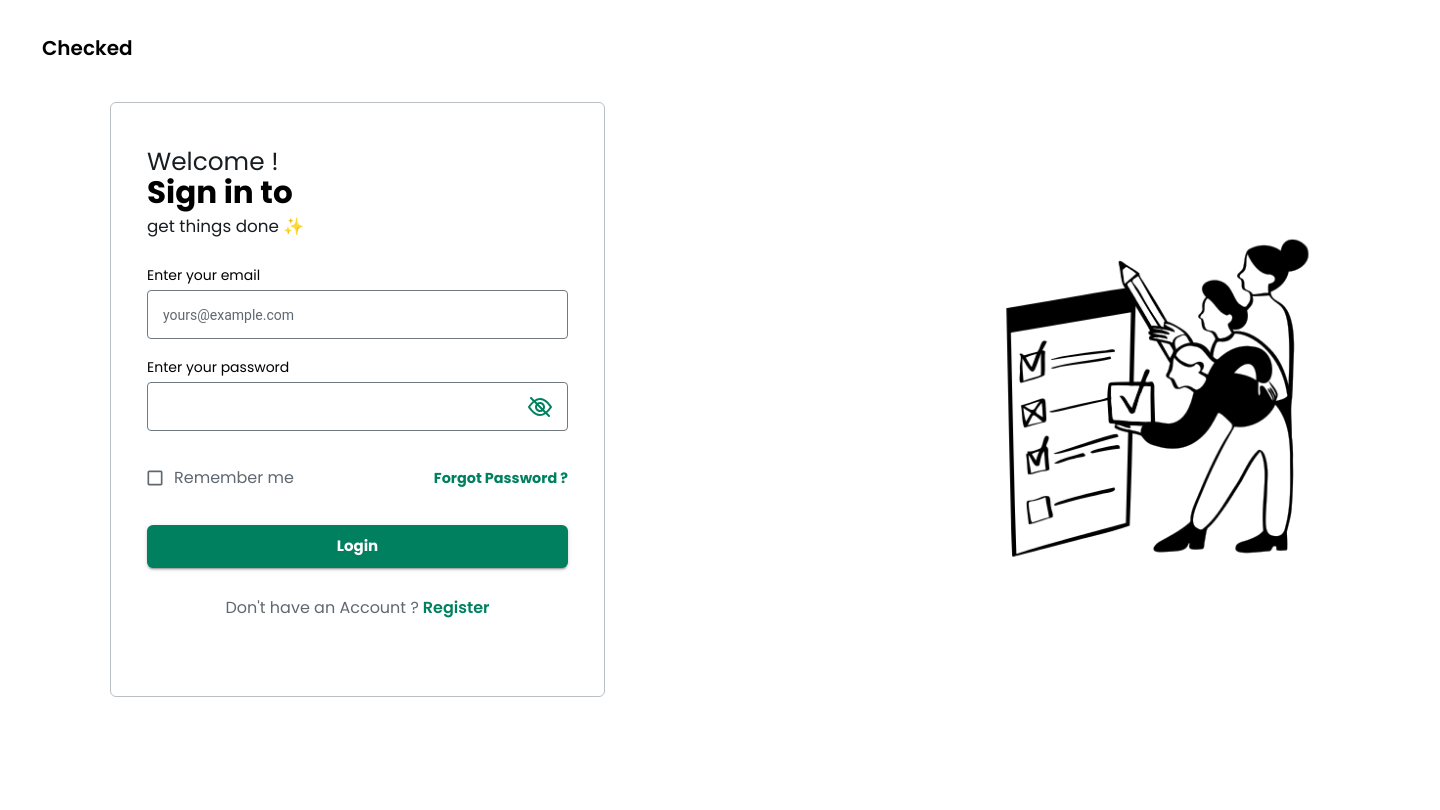
Test: AuthPage › moves to the authenticated shell after a successful login and stores a session
This screenshot has width=1440, height=810.
In the field labelled "Enter your email": (358, 315) top-left (147, 293), bottom-right (568, 337), type "task.master@example.com"
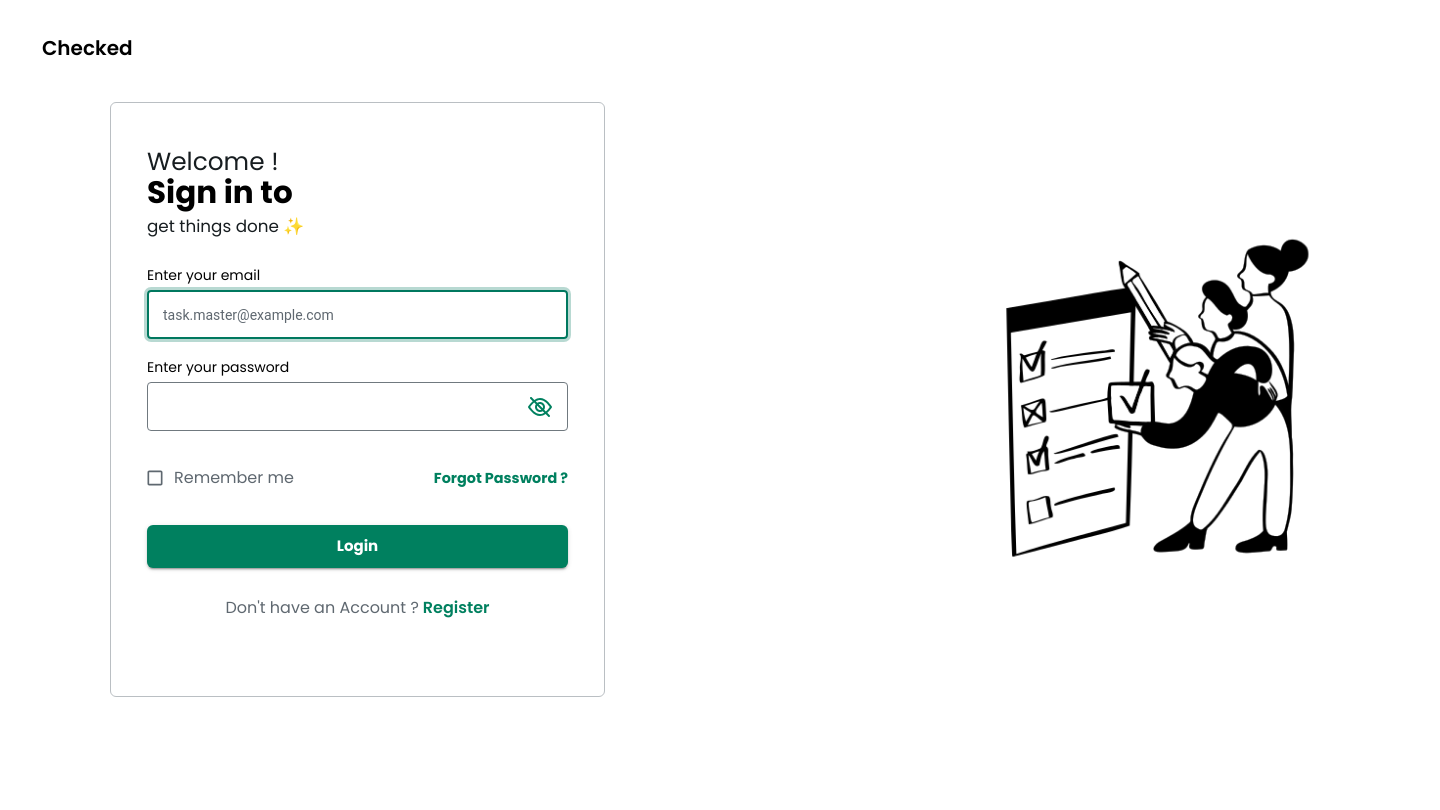
In the password field labelled "Enter your password": (331, 407) top-left (147, 385), bottom-right (515, 429), type "password123"
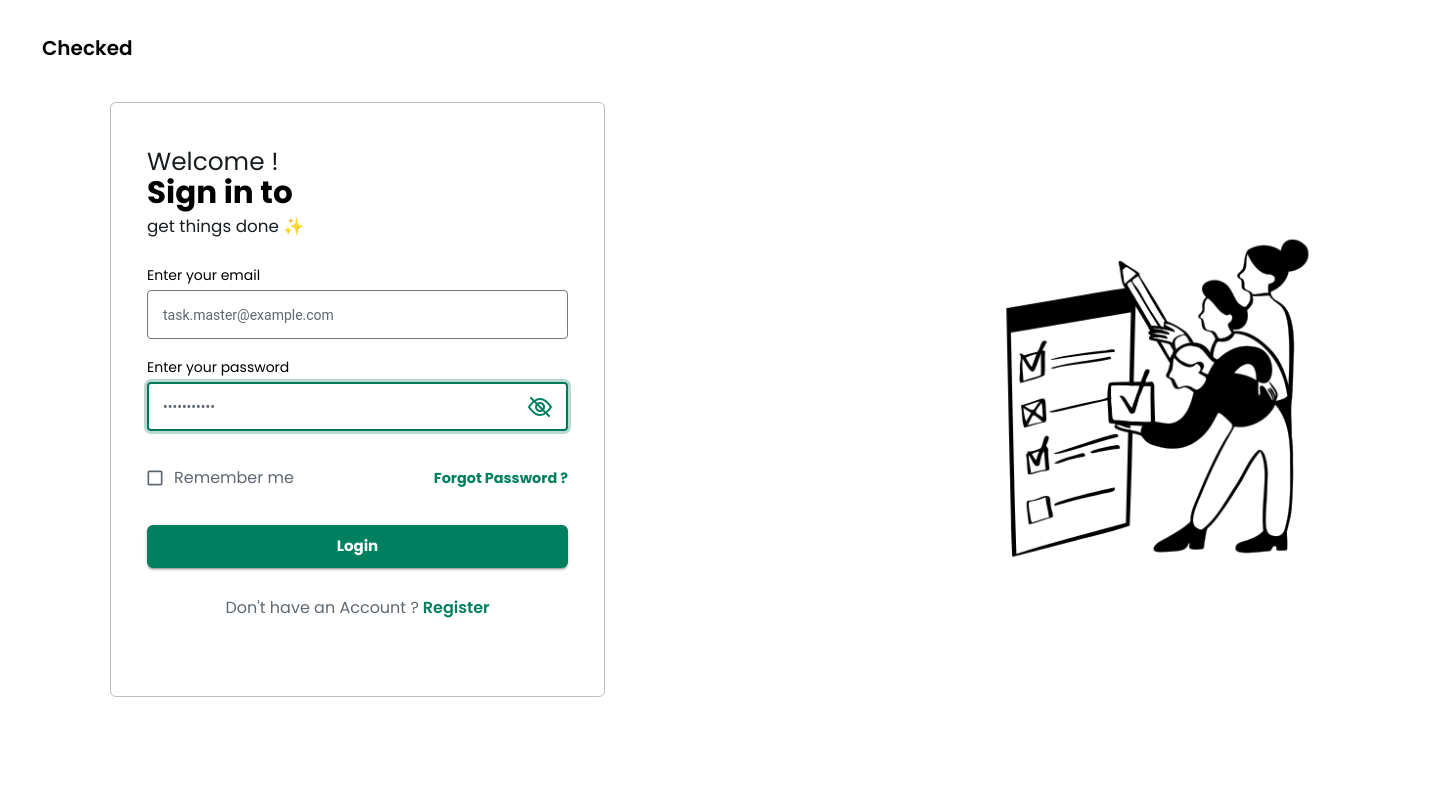
Click the button "Login": (358, 546) top-left (147, 525), bottom-right (568, 568)
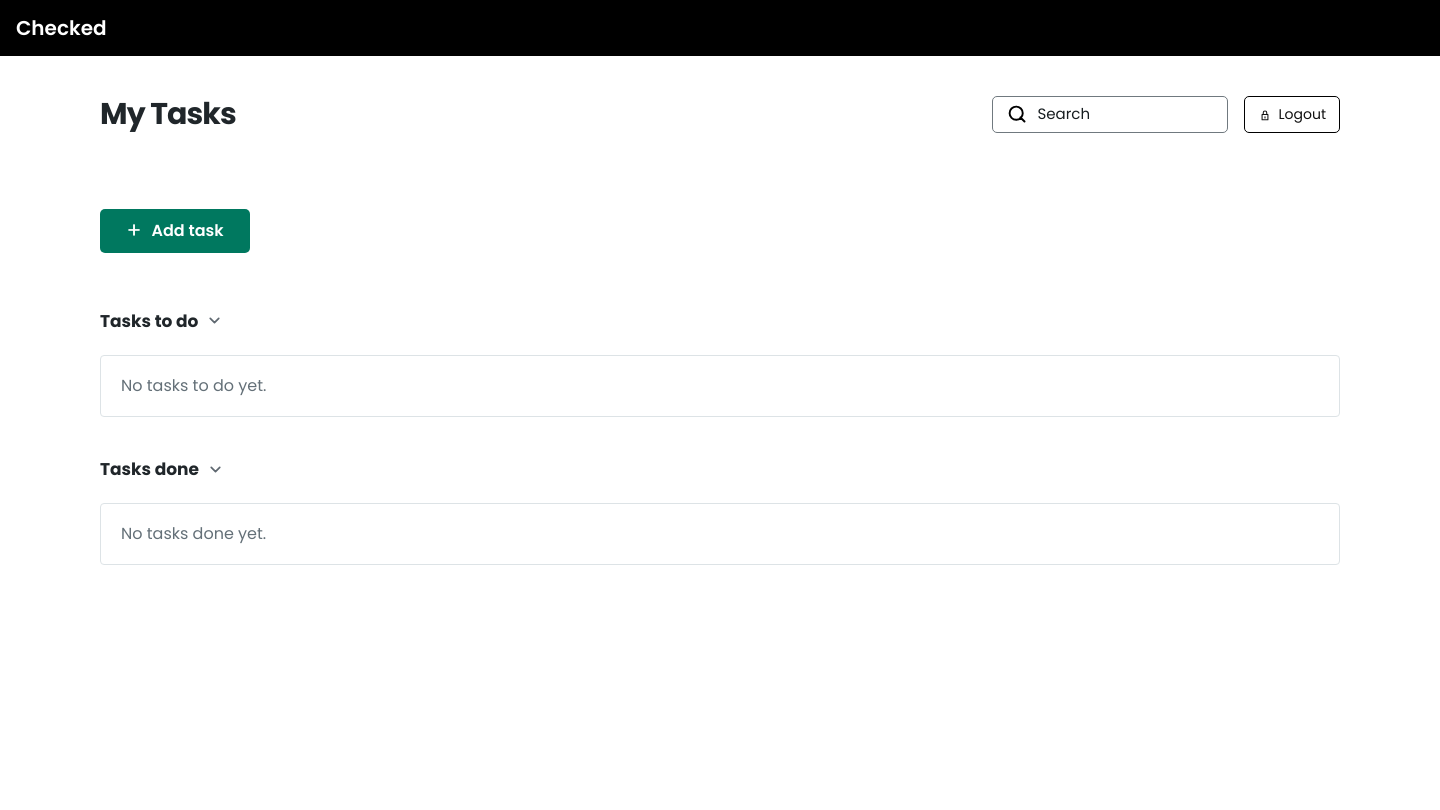
Result: the heading "My Tasks" is shown at top-left (100, 93), bottom-right (236, 135)
